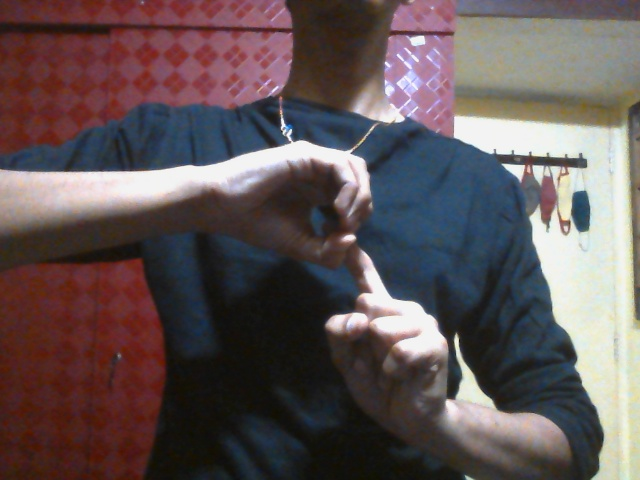Q: (212, 140, 450, 449)
